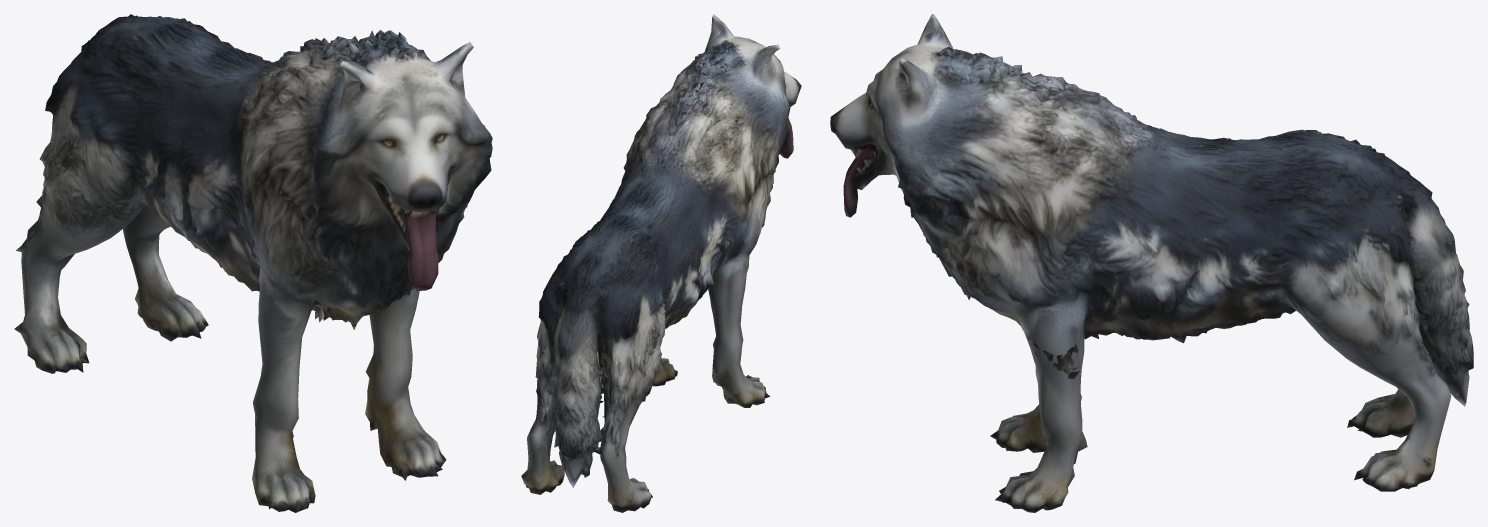
File: Yolanda.glb
3 views of the same model, side by side, from view 1: azimuth 30°, elevation 25°; view 2: azimuth 150°, elevation 25°; view 3: azimuth 270°, elevation 25° (orthographic). The views are drawn at different scales.
Visible parts, largest first — view 1: Mesh1.0; view 2: Mesh1.0; view 3: Mesh1.0.
Boxes of the visible parts, box(x1,y1,x2,y2) form: Mesh1.0: box(14, 14, 492, 512); Mesh1.0: box(521, 14, 801, 512); Mesh1.0: box(830, 14, 1473, 512).
Size of the model in its own units: 0.666 by 1.43 by 1.9.
1 material, 1 textured.
